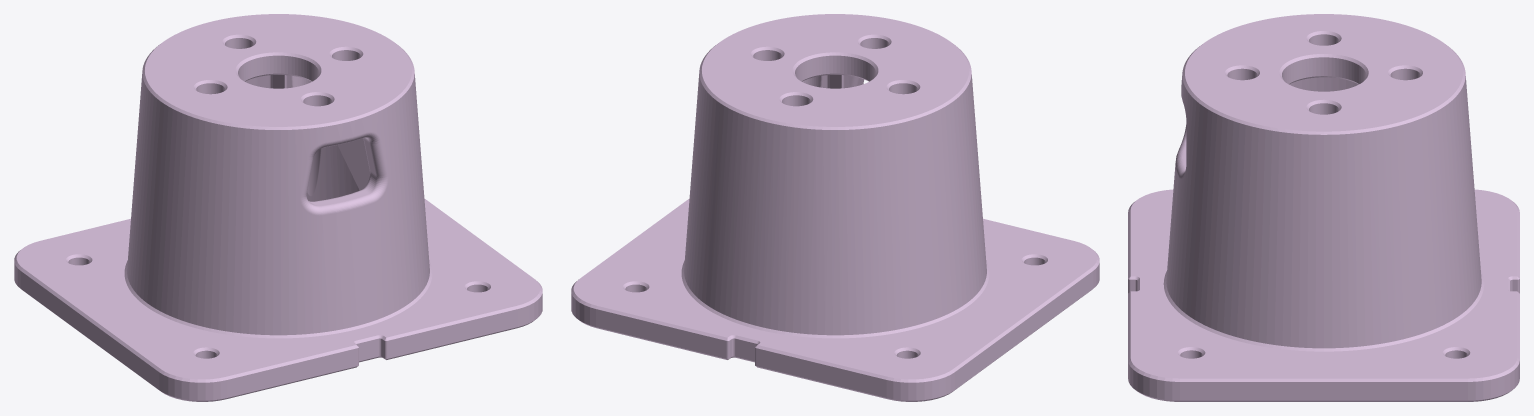
Rendered from NECK - FLO-HEAD-01 - NECK.dae.
3 renders of one model, left to right at view 1: azimuth 30°, elevation 25°; view 2: azimuth 150°, elevation 25°; view 3: azimuth 270°, elevation 25°, orthographic. The views are drawn at different scales.
Parts seen in each view (by area): view 1: 5ca6b60711c57816261aa494; view 2: 5ca6b60711c57816261aa494; view 3: 5ca6b60711c57816261aa494.
Boxes of the visible parts, x1,y1,x2,y2 form: 5ca6b60711c57816261aa494: [14, 14, 542, 401]; 5ca6b60711c57816261aa494: [571, 14, 1099, 401]; 5ca6b60711c57816261aa494: [1128, 14, 1519, 401].
Bounding box in the file's own units: 0.0444 × 0.0384 × 0.0254.
